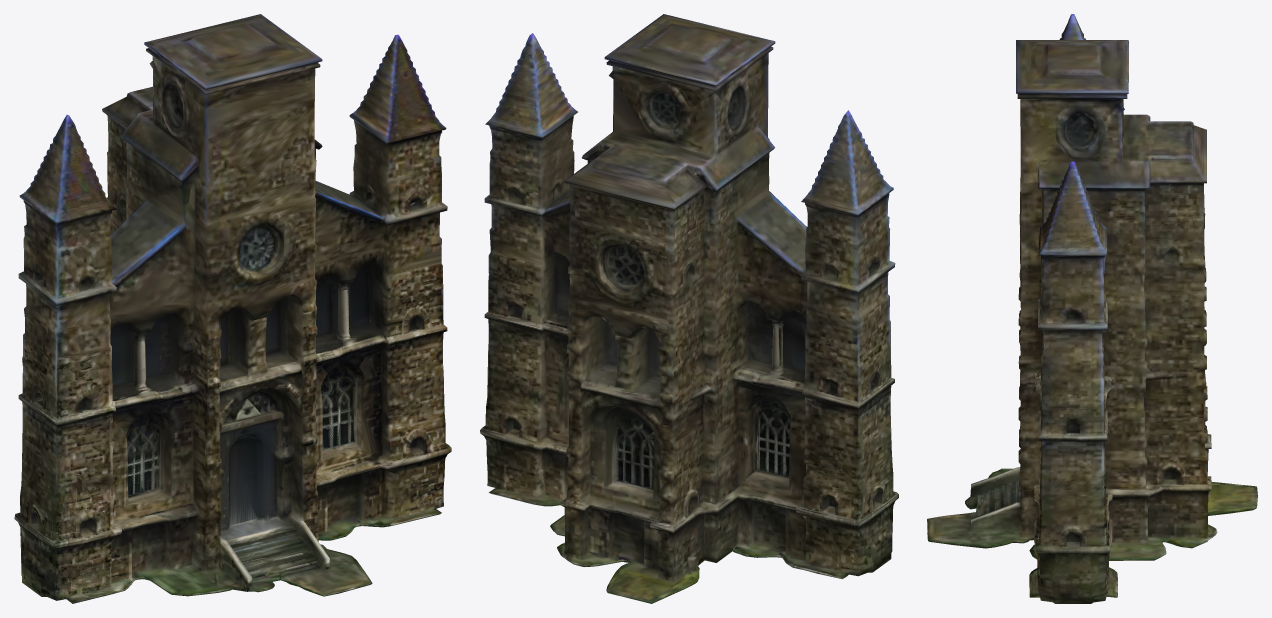
The model's file is temple-body.glb.
3 renders of one model, left to right at view 1: azimuth 30°, elevation 25°; view 2: azimuth 150°, elevation 25°; view 3: azimuth 270°, elevation 25°, orthographic. The views are drawn at different scales.
Parts seen in each view (by area): view 1: tripo_node_3db41a13-262c-493f-bd69-74325dadf565; view 2: tripo_node_3db41a13-262c-493f-bd69-74325dadf565; view 3: tripo_node_3db41a13-262c-493f-bd69-74325dadf565.
Boxes of the visible parts, x1,y1,x2,y2 form: tripo_node_3db41a13-262c-493f-bd69-74325dadf565: (14, 14, 451, 603); tripo_node_3db41a13-262c-493f-bd69-74325dadf565: (480, 14, 898, 603); tripo_node_3db41a13-262c-493f-bd69-74325dadf565: (927, 14, 1257, 603).
Bounding box in the file's own units: 0.8277 × 0.9833 × 0.6427.
1 material, 1 textured.
